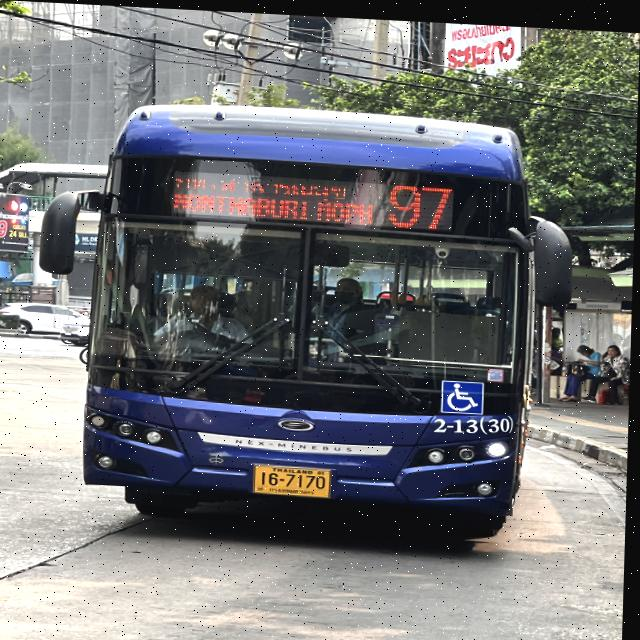Bus Line Number: (383, 176, 461, 228)
Bus Side Number: (431, 406, 518, 432)
Destination Sign: (166, 166, 381, 225)
TSB-Bus: (39, 101, 572, 533)
